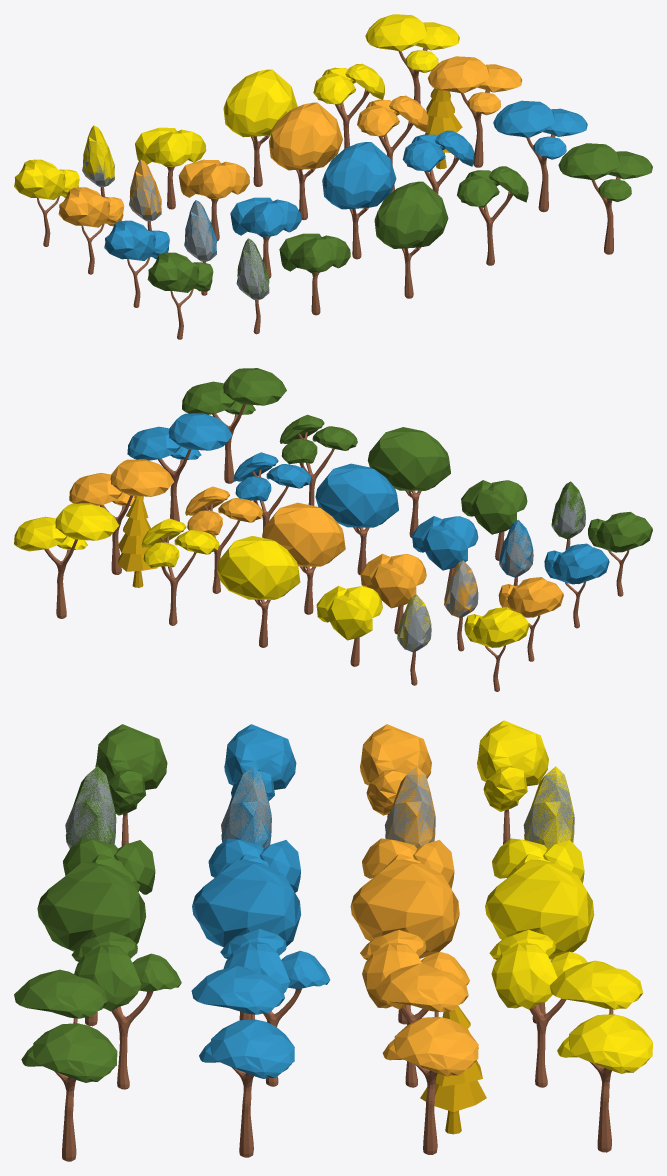
Rendered from Lowpoly_Trees_Collection.fbx.
The picture shows the model from 3 angles, top to bottom: view 1: azimuth 30°, elevation 25°; view 2: azimuth 150°, elevation 25°; view 3: azimuth 270°, elevation 25°; orthographic projection. The views are drawn at different scales.
Visible parts, largest first — view 1: Lowpolytree_4_blue, Lowpolytree_4_orange, Lowpolytree_4_green, Lowpolytree_4_yellow, Lowpolytree_6_blue, Lowpolytree_6_green, Lowpolytree_6_orange, Lowpolytree_6_yellow, Lowpolytree_03_green, Lowpolytree_03_yellow, Lowpolytree_5_green, Lowpolytree_03_blue (+13 smaller); view 2: Lowpolytree_4_yellow, Lowpolytree_4_blue, Lowpolytree_4_green, Lowpolytree_6_yellow, Lowpolytree_4_orange, Lowpolytree_6_blue, Lowpolytree_6_green, Lowpolytree_6_orange, Lowpolytree_5_yellow, Lowpolytree_03_yellow, Lowpolytree_03_green, Lowpolytree_5_green (+13 smaller); view 3: Lowpolytree_6_blue, Lowpolytree_6_yellow, Lowpolytree_6_orange, Lowpolytree_6_green, Lowpolytree_4_yellow, Lowpolytree_4_orange, Lowpolytree_4_green, Lowpolytree_4_blue, Lowpolytree_5_green, Lowpolytree_5_yellow, Lowpolytree_01_yellow, Lowpolytree_01_green (+13 smaller).
Boxes of the visible parts, x1,y1,x2,y2 form: Lowpolytree_4_blue: (322,142,396,259); Lowpolytree_4_orange: (269,102,342,220); Lowpolytree_4_green: (374,181,448,298); Lowpolytree_4_yellow: (223,69,297,186); Lowpolytree_6_blue: (493,100,587,212); Lowpolytree_6_green: (558,143,652,254); Lowpolytree_6_orange: (427,56,522,167); Lowpolytree_6_yellow: (365,14,459,125); Lowpolytree_03_green: (279,233,350,315); Lowpolytree_03_yellow: (135,127,206,209); Lowpolytree_5_green: (457,166,528,265); Lowpolytree_03_blue: (230,197,301,278); Lowpolytree_4_yellow: (216,536,300,647); Lowpolytree_4_blue: (315,463,398,575); Lowpolytree_4_green: (367,427,450,537); Lowpolytree_6_yellow: (14,503,119,618); Lowpolytree_4_orange: (262,502,345,614); Lowpolytree_6_blue: (127,413,232,521); Lowpolytree_6_green: (182,368,286,483); Lowpolytree_6_orange: (69,459,174,574); Lowpolytree_5_yellow: (141,518,219,625); Lowpolytree_03_yellow: (316,585,382,666); Lowpolytree_03_green: (461,480,527,560); Lowpolytree_5_green: (279,414,357,505); Lowpolytree_6_blue: (191,965,294,1157); Lowpolytree_6_yellow: (549,960,652,1152); Lowpolytree_6_orange: (375,963,478,1154); Lowpolytree_6_green: (14,969,117,1161); Lowpolytree_4_yellow: (485,859,594,1023); Lowpolytree_4_orange: (350,859,459,1024); Lowpolytree_4_green: (37,862,146,1026); Lowpolytree_4_blue: (192,859,301,1020); Lowpolytree_5_green: (71,931,181,1089); Lowpolytree_5_yellow: (489,929,587,1087); Lowpolytree_01_yellow: (477,720,548,844); Lowpolytree_01_green: (95,724,167,846).
Bounding box in the file's own units: 2093 × 476 × 1604.
Materials: 7 (7 with a texture image).
